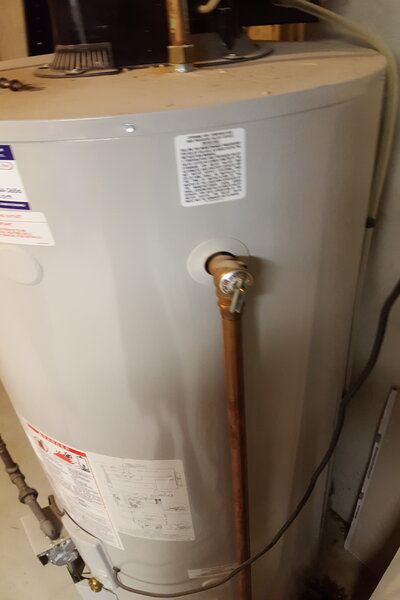valve: (206, 249, 254, 328)
